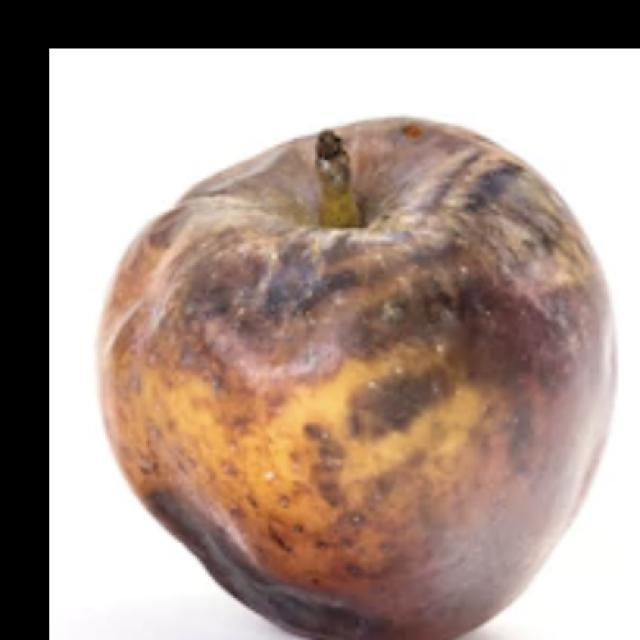Rotten: (137, 110, 605, 640)
